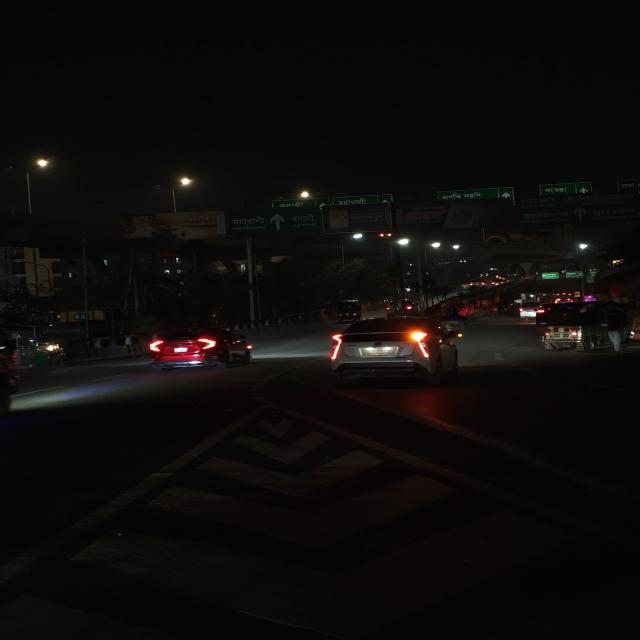car: (323, 314, 471, 386), (144, 325, 254, 371), (513, 301, 545, 319)
cng: (534, 305, 593, 351), (332, 299, 362, 323)
